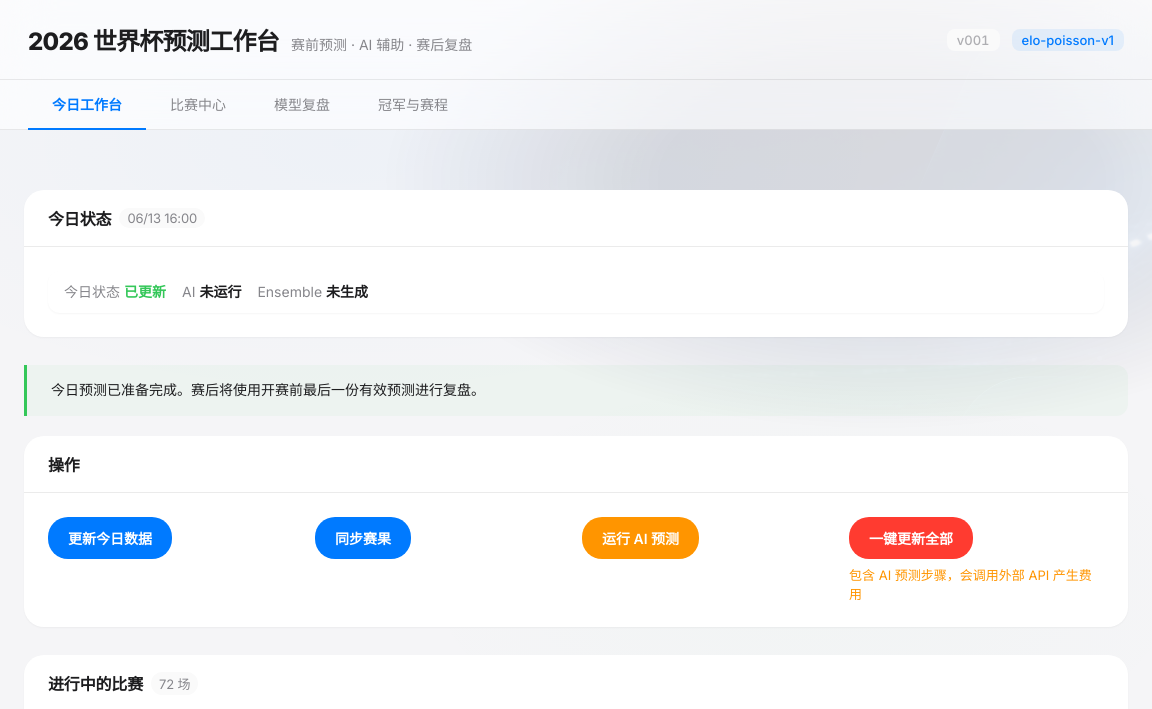
Test case: renders model review even if the legacy model-score endpoint fails
This screenshot has width=1152, height=709.
Click the tab "模型复盘". click: [302, 105]
box: [250, 80, 354, 130]
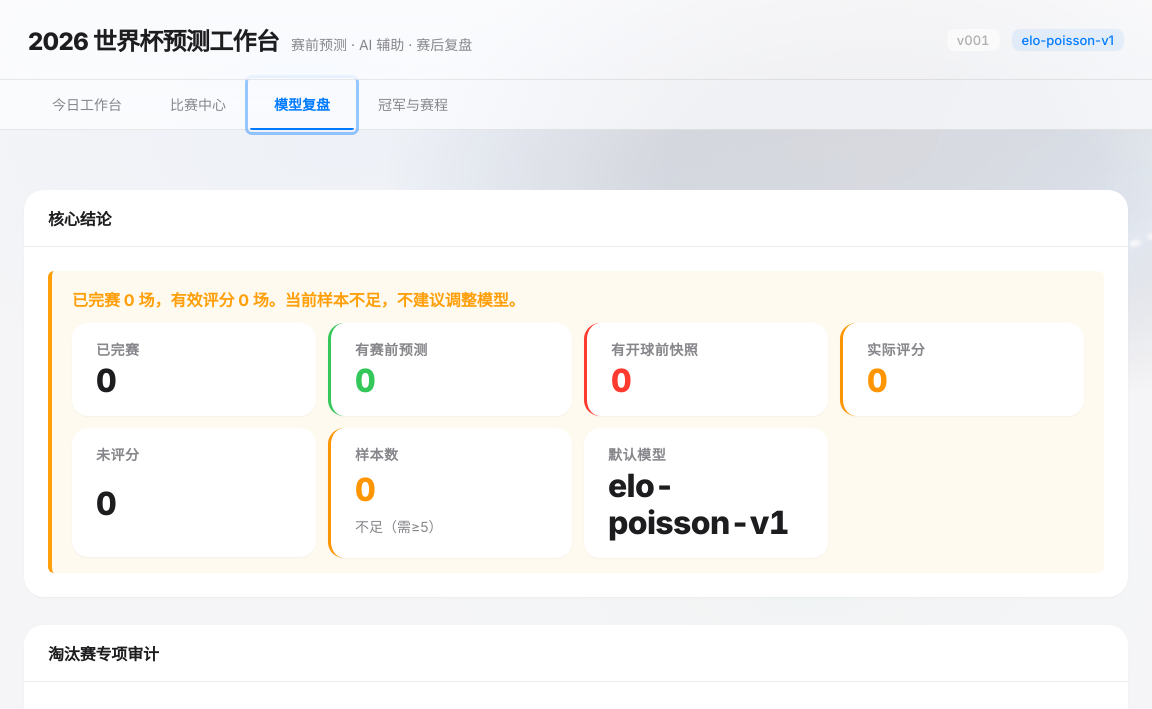
Expected: the heading "核心结论" is shown, [48, 206, 111, 230]
